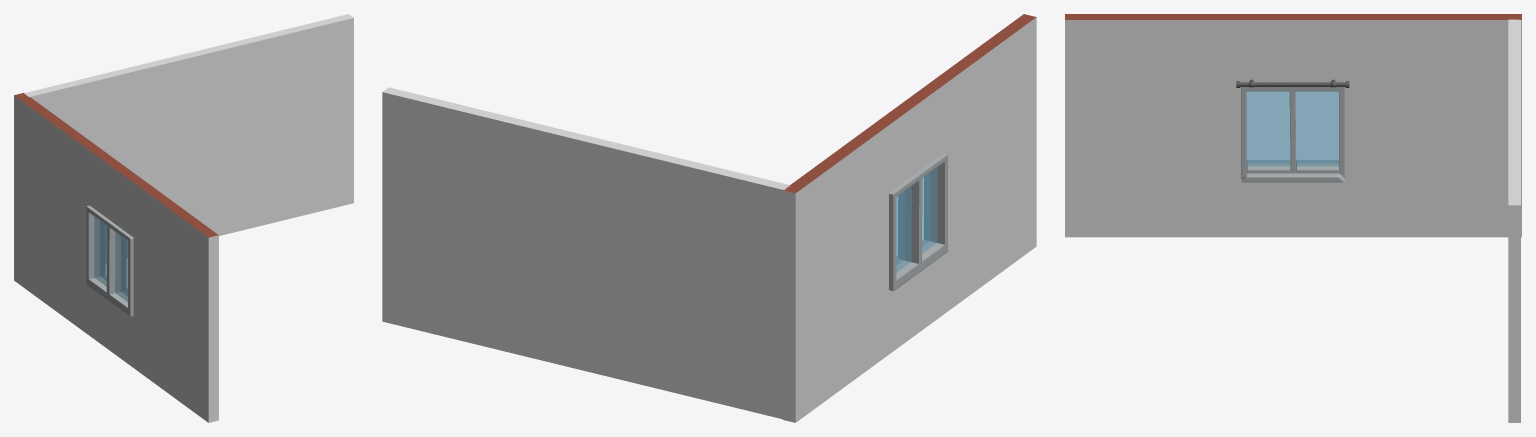
File: walls_tier5.fbx
3 renders of one model, left to right at view 1: azimuth 30°, elevation 25°; view 2: azimuth 150°, elevation 25°; view 3: azimuth 270°, elevation 25°, orthographic. The views are drawn at different scales.
Parts seen in each view (by area): view 1: Cube.007, Cube, Cube.002, Cube.003; view 2: Cube.007, Cube, Cube.002, Cube.003; view 3: Cube, Cube.003, Cube.007, Cube.002, Cylinder.
Boxes of the visible parts, <box> form: Cube.007: <box>24,14,353,263</box>; Cube: <box>14,93,218,422</box>; Cube.002: <box>86,205,133,316</box>; Cube.003: <box>94,217,127,301</box>; Cube.007: <box>382,87,789,419</box>; Cube: <box>783,14,1036,422</box>; Cube.002: <box>889,153,947,291</box>; Cube.003: <box>896,167,937,272</box>; Cube: <box>1065,14,1521,237</box>; Cube.003: <box>1246,91,1338,166</box>; Cube.007: <box>1508,19,1520,422</box>; Cube.002: <box>1241,87,1344,182</box>; Cylinder: <box>1236,81,1349,87</box>.
Bounding box in the file's own units: 659 × 346 × 658.
